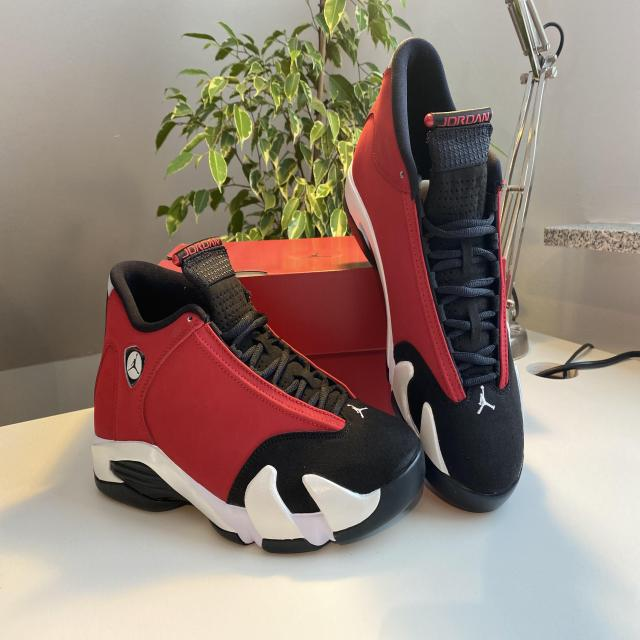shoe: (86, 237, 427, 560), (338, 30, 529, 518)
